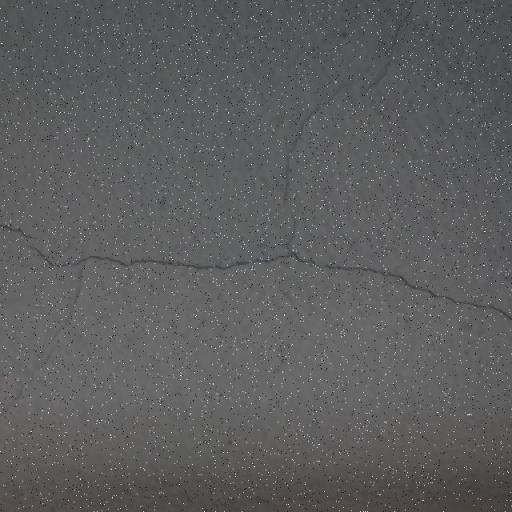moderate crack: (256, 16, 416, 248)
severe crack: (0, 218, 512, 390)
